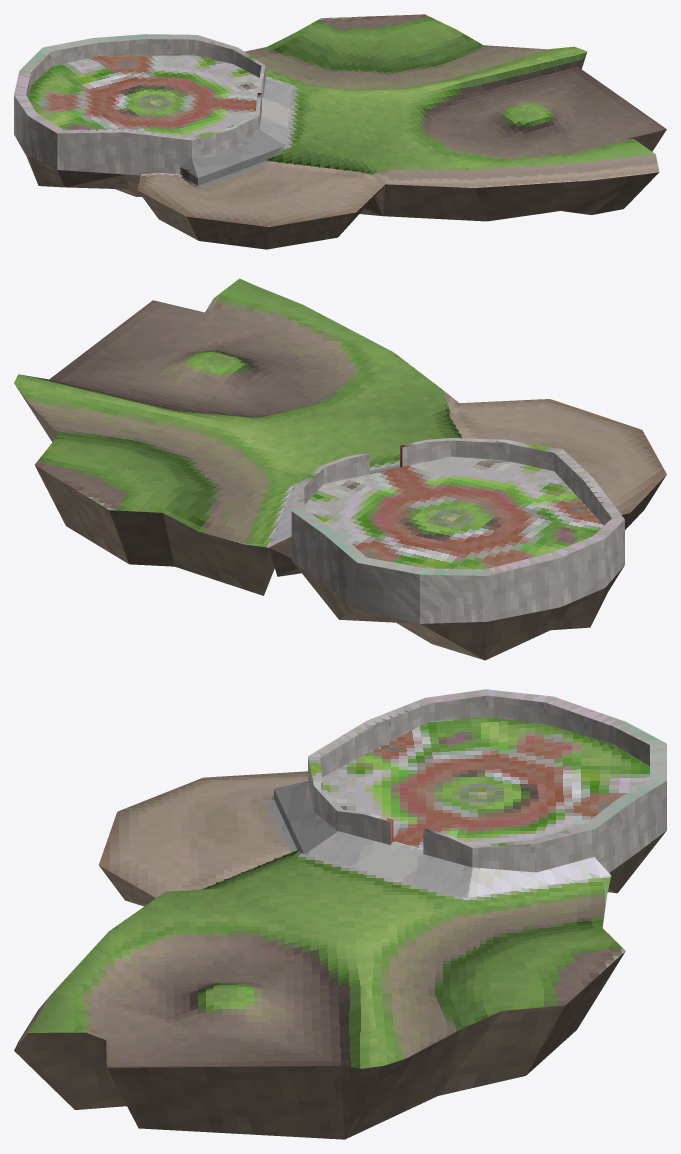
Rendered from 056f_Seagull_Park_Site.glb.
3 renders of one model, top to bottom at view 1: azimuth 30°, elevation 25°; view 2: azimuth 150°, elevation 25°; view 3: azimuth 270°, elevation 25°, orthographic. The views are drawn at different scales.
Parts seen in each view (by area): view 1: part_0; view 2: part_0; view 3: part_0.
Part boxes in pixels (x1,y1,x2,y2): part_0: (14, 14, 666, 249); part_0: (14, 278, 666, 660); part_0: (14, 689, 666, 1139).
Bounding box in the file's own units: 105 × 24.67 × 85.01.
Materials: 1 (1 with a texture image).
